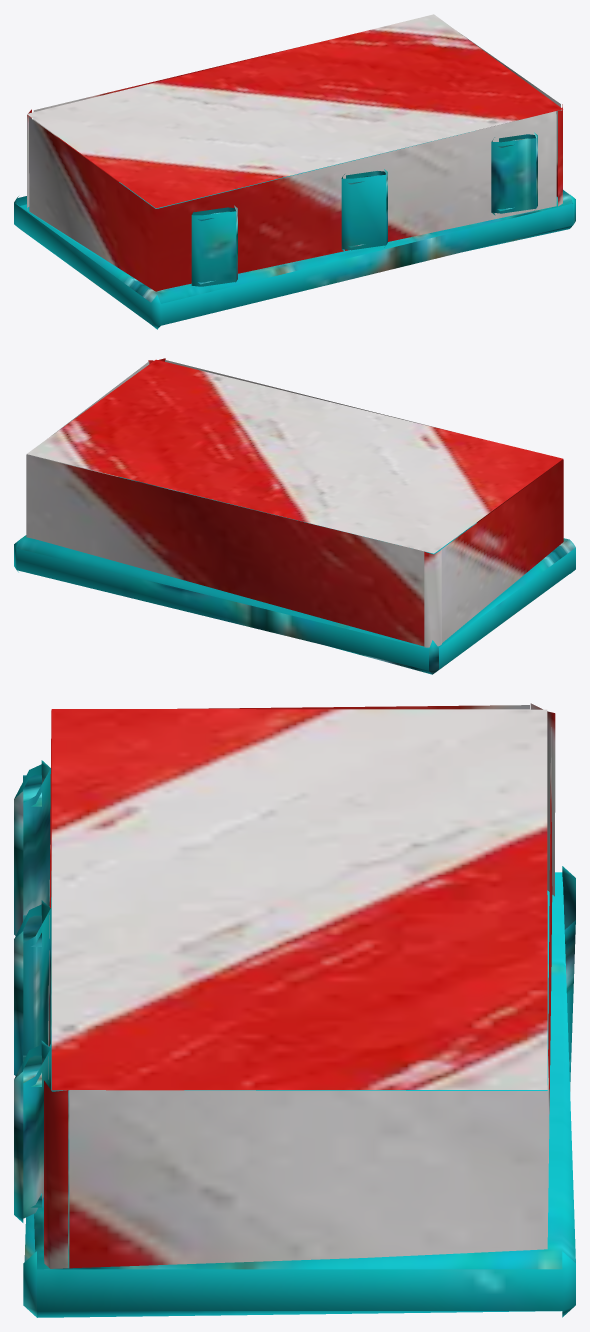
The model's file is bordillo_lod.glb.
3 views of the same model, one above another, from view 1: azimuth 30°, elevation 25°; view 2: azimuth 150°, elevation 25°; view 3: azimuth 270°, elevation 25° (orthographic). The views are drawn at different scales.
Parts seen in each view (by area): view 1: bordillo; view 2: bordillo; view 3: bordillo.
Boxes of the visible parts, x1,y1,x2,y2 form: bordillo: (14,14,575,329); bordillo: (14,358,575,674); bordillo: (14,703,575,1317).
Size of the model in its own units: 1 by 0.2683 by 0.598.
2 materials, 2 textured.
